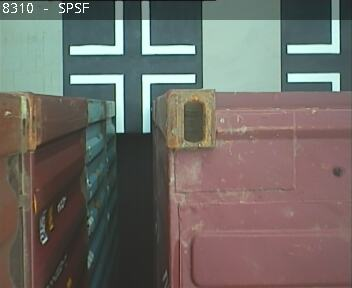groundmarker_1: (70, 74, 195, 133), (286, 1, 341, 124), (70, 1, 194, 55)
